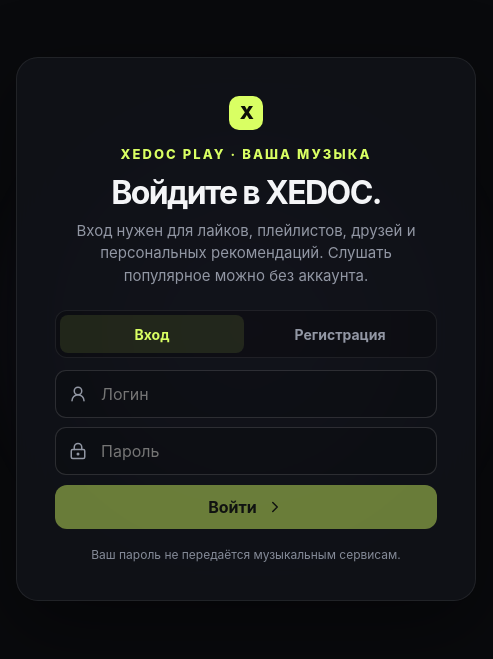
Test: AuthGate registration › explains that an email cannot be used as a public login
Click the button "Регистрация": (340, 334) x1=248 y1=315 x2=432 y2=353
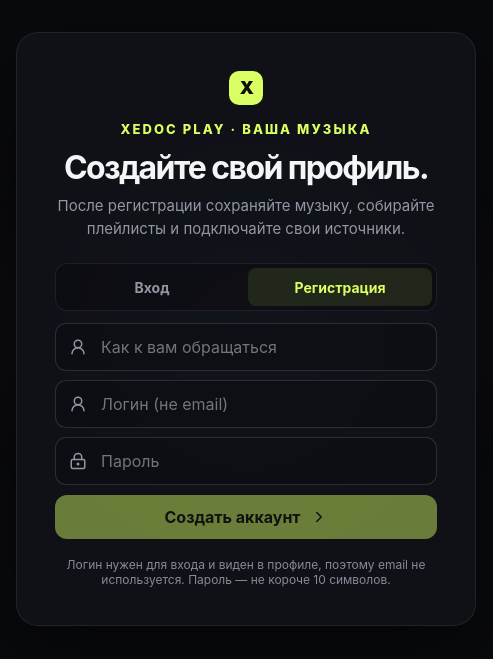
In the field with placeholder "Как к вам обращаться": (261, 347) x1=99 y1=325 x2=423 y2=369, type "Марат Исмаилов"
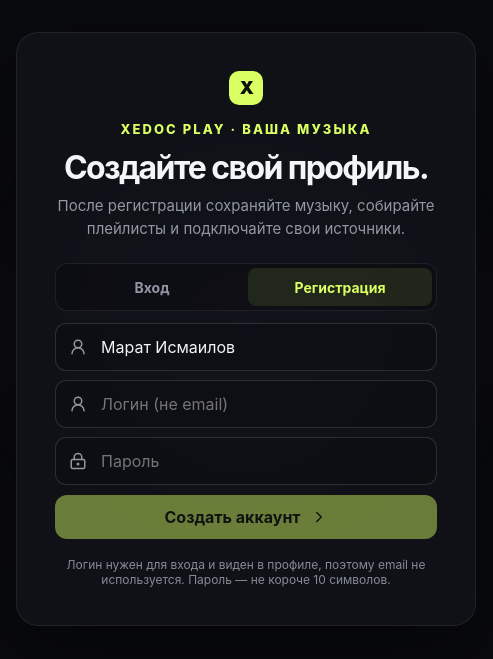
In the field with placeholder "Логин (не email)": (261, 404) x1=99 y1=382 x2=423 y2=426, type "rakisolo@gmail.com"
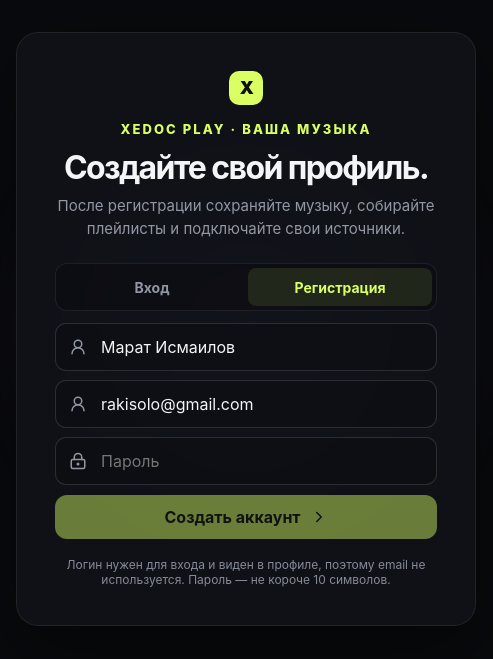
In the password field with placeholder "Пароль": (261, 461) x1=99 y1=439 x2=423 y2=483, type "secure-password"
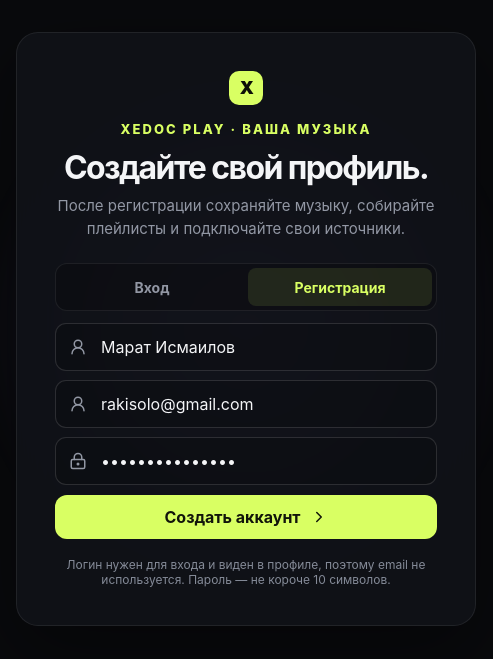
Click the button "Создать аккаунт": (246, 517) x1=55 y1=495 x2=437 y2=539
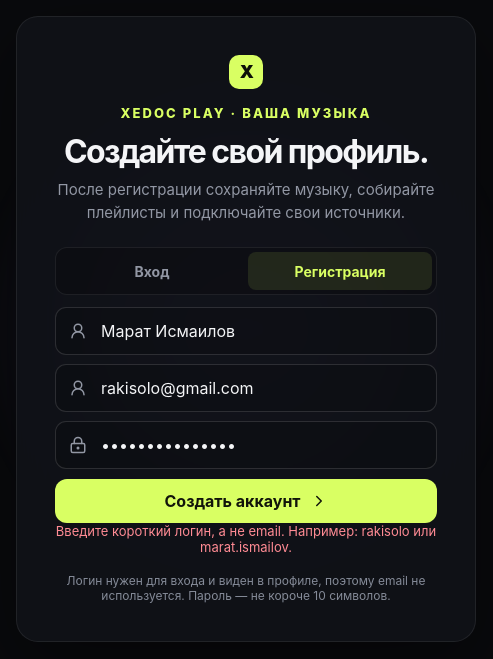
Result: the text "Введите короткий логин, а не email" is shown at x1=56 y1=523 x2=436 y2=555
